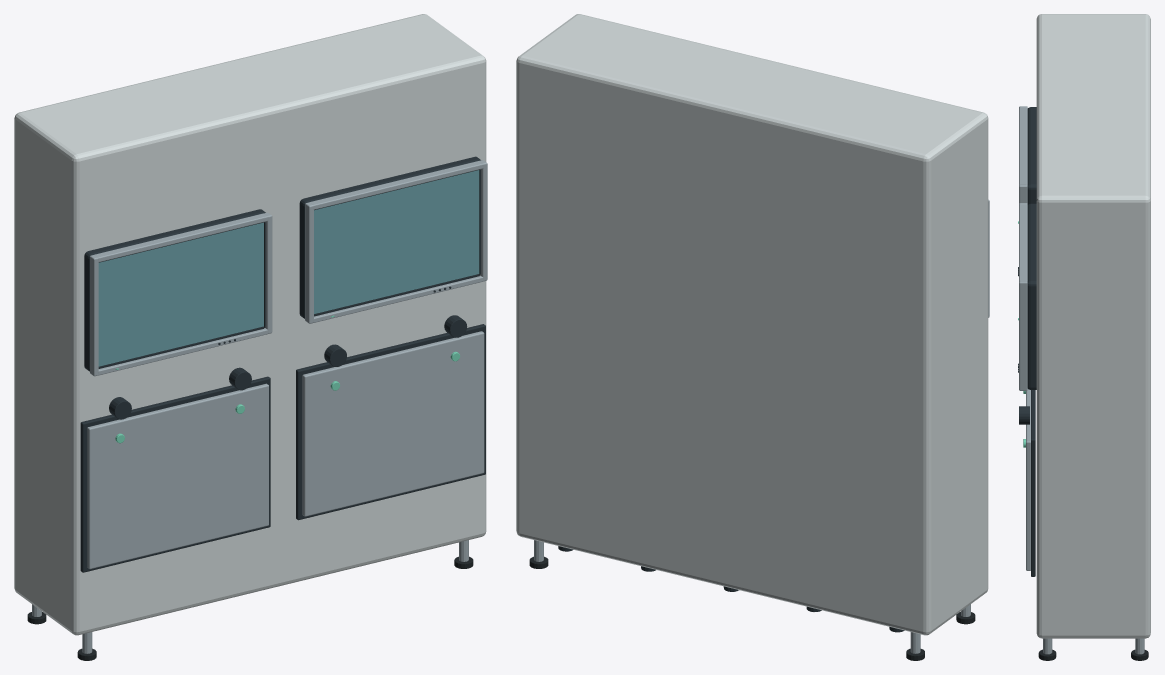
Rendered from RD_ProcessControlBay.fbx.
3 views of the same model, side by side, from view 1: azimuth 30°, elevation 25°; view 2: azimuth 150°, elevation 25°; view 3: azimuth 270°, elevation 25° (orthographic). The views are drawn at different scales.
Parts seen in each view (by area): view 1: RD_ProcessControlBay; view 2: RD_ProcessControlBay; view 3: RD_ProcessControlBay.
Boxes of the visible parts, x1,y1,x2,y2 form: RD_ProcessControlBay: [14, 14, 487, 660]; RD_ProcessControlBay: [516, 14, 989, 660]; RD_ProcessControlBay: [1018, 14, 1150, 660].
Size of the model in its own units: 200 by 235 by 60.4.
